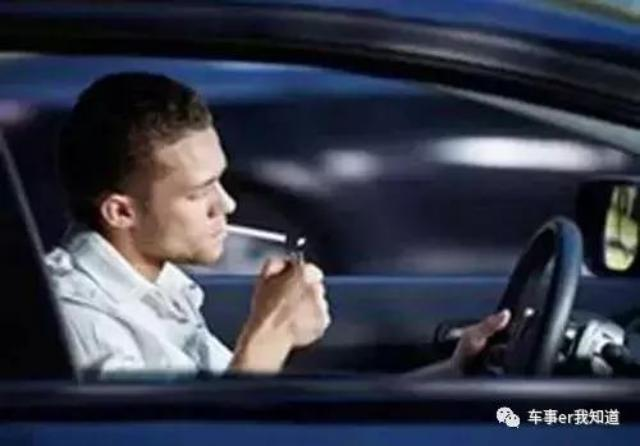Cigarette: (216, 223, 308, 249)
